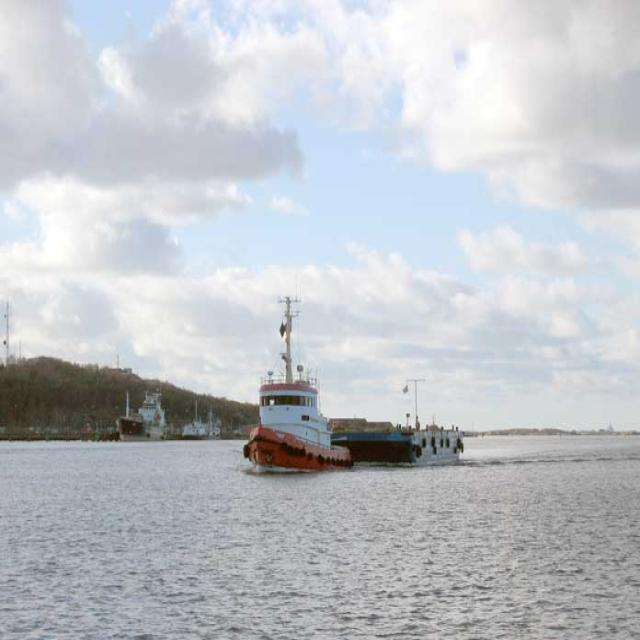passenger ship: (241, 288, 351, 474), (112, 376, 170, 440)
